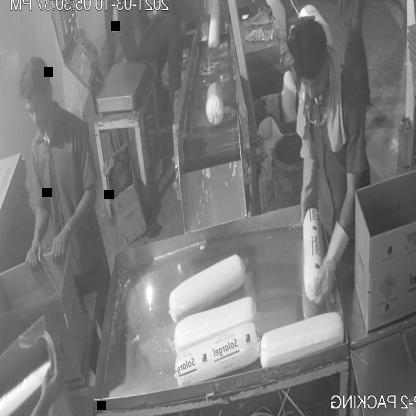glove: (310, 213, 351, 319), (294, 148, 324, 242)
no_glove: (48, 176, 98, 272), (22, 192, 55, 280), (132, 6, 172, 56), (346, 0, 369, 39)
